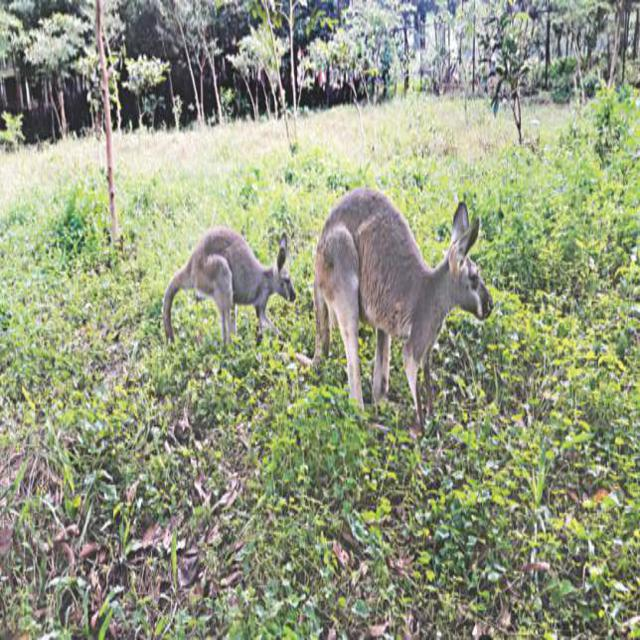kangaroo: (309, 193, 505, 397), (170, 226, 299, 329)
